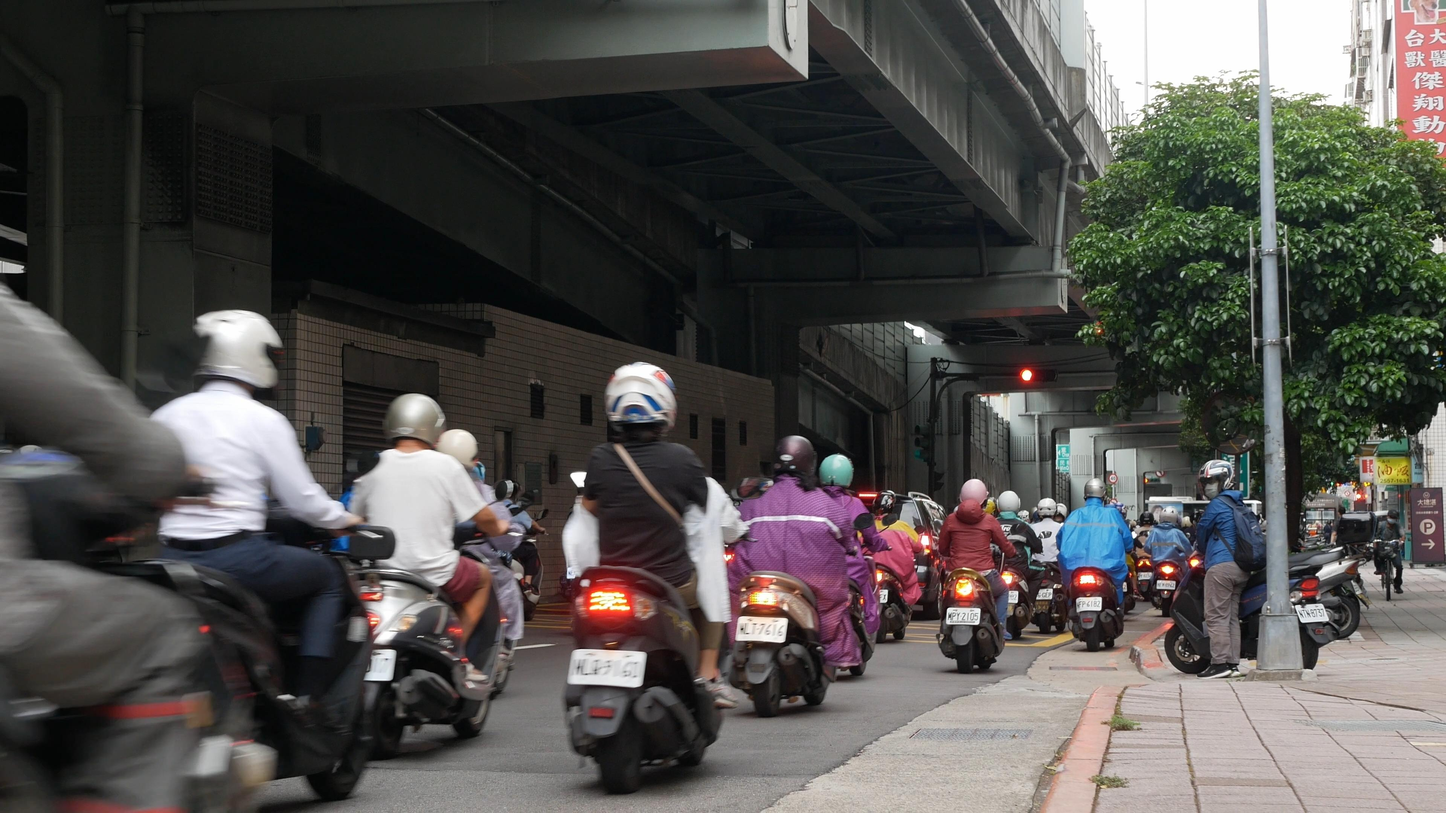bicyclist: (1373, 509, 1406, 601)
driver: (87, 309, 382, 803), (561, 360, 759, 795), (346, 393, 514, 760), (726, 435, 875, 719), (934, 479, 1027, 673), (1055, 478, 1135, 643), (857, 489, 926, 644), (989, 490, 1053, 639), (1144, 506, 1195, 618), (1029, 497, 1070, 634)
helmet: (193, 309, 284, 392), (603, 360, 678, 436), (382, 393, 447, 451), (435, 429, 479, 473), (773, 435, 817, 479), (1198, 460, 1238, 501), (819, 453, 855, 490), (959, 479, 989, 509), (872, 489, 897, 516), (1084, 478, 1108, 504), (997, 490, 1021, 515), (1037, 497, 1057, 520), (1159, 506, 1178, 525), (1053, 503, 1067, 521), (1139, 511, 1154, 526), (1017, 510, 1031, 524), (1181, 516, 1192, 528)
no-helmet: (1387, 509, 1400, 524)
